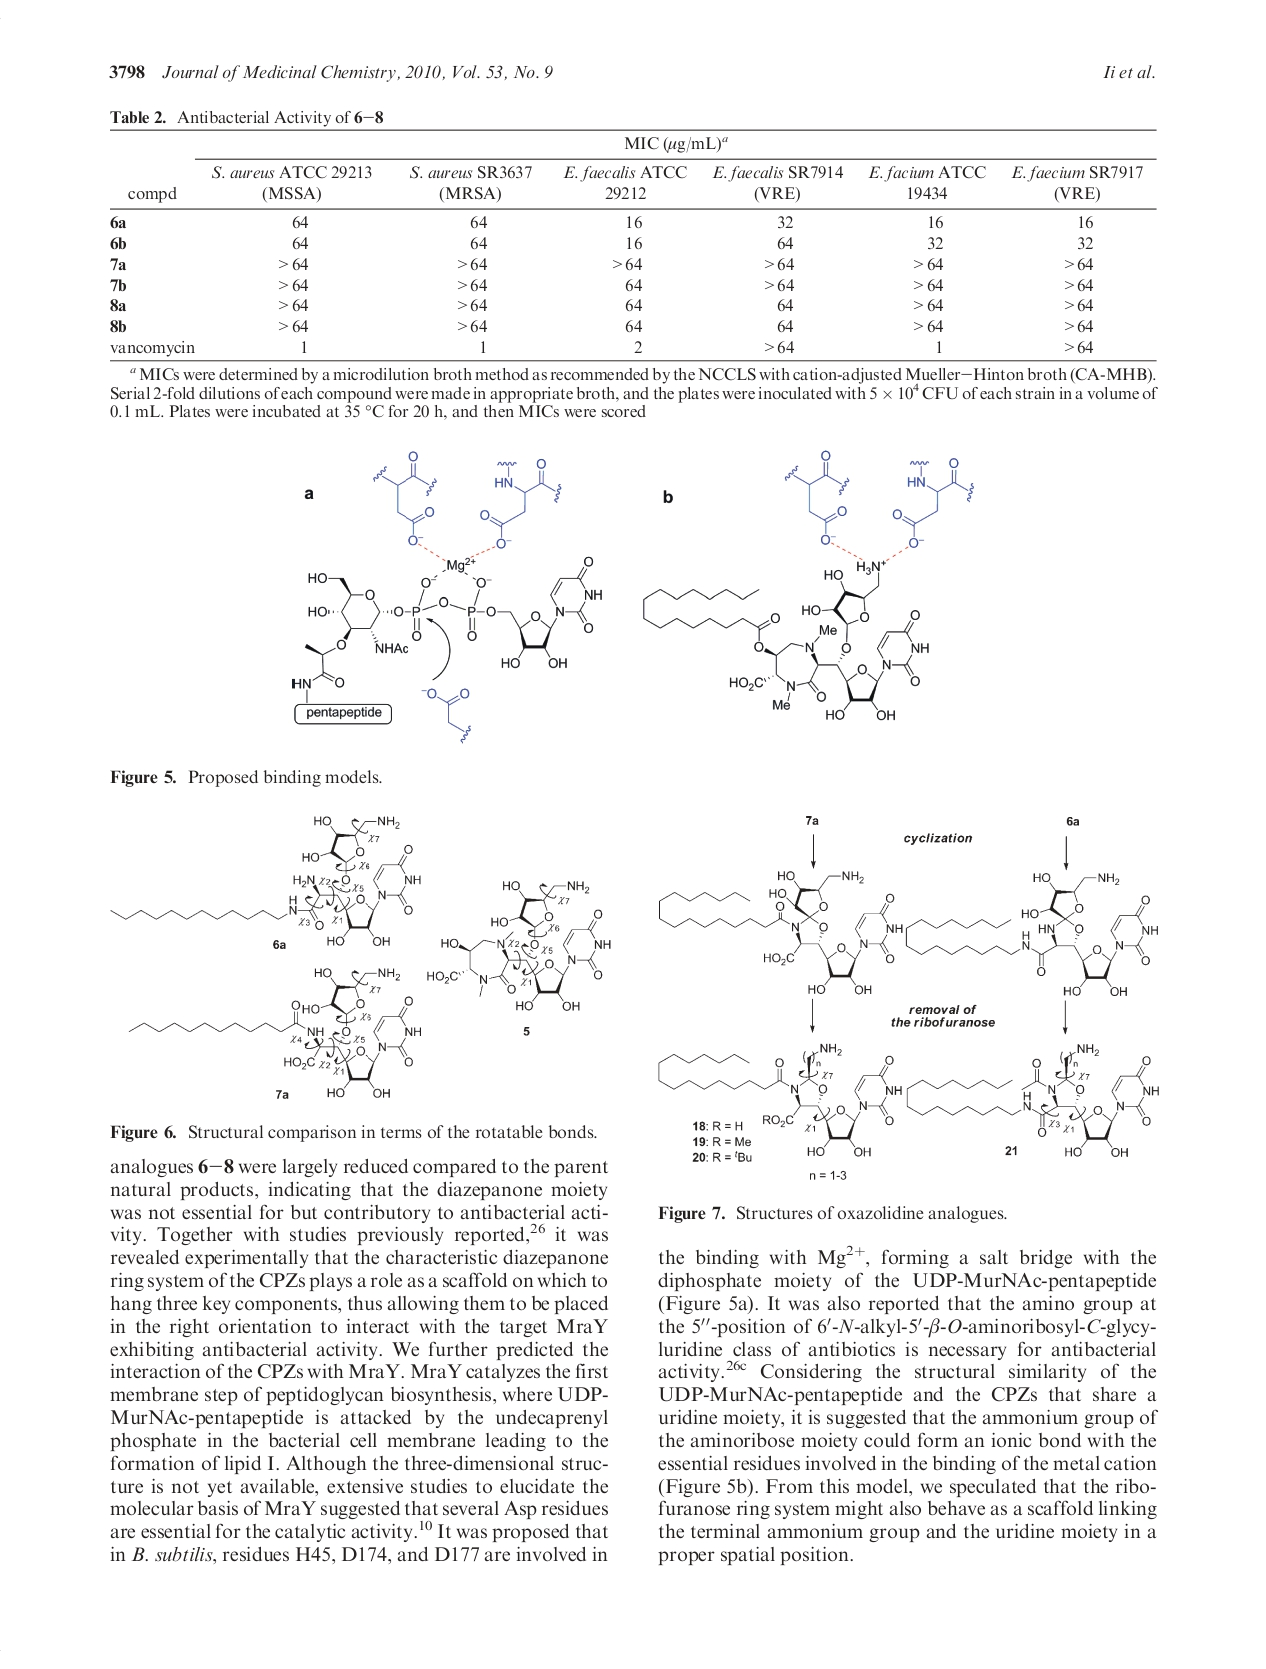exist_molecular: (289, 451, 609, 747), (641, 449, 979, 723), (109, 813, 422, 946), (128, 965, 423, 1098), (906, 868, 1161, 997), (657, 866, 906, 996), (906, 1041, 1161, 1158), (657, 1039, 906, 1158), (424, 876, 614, 1012)
